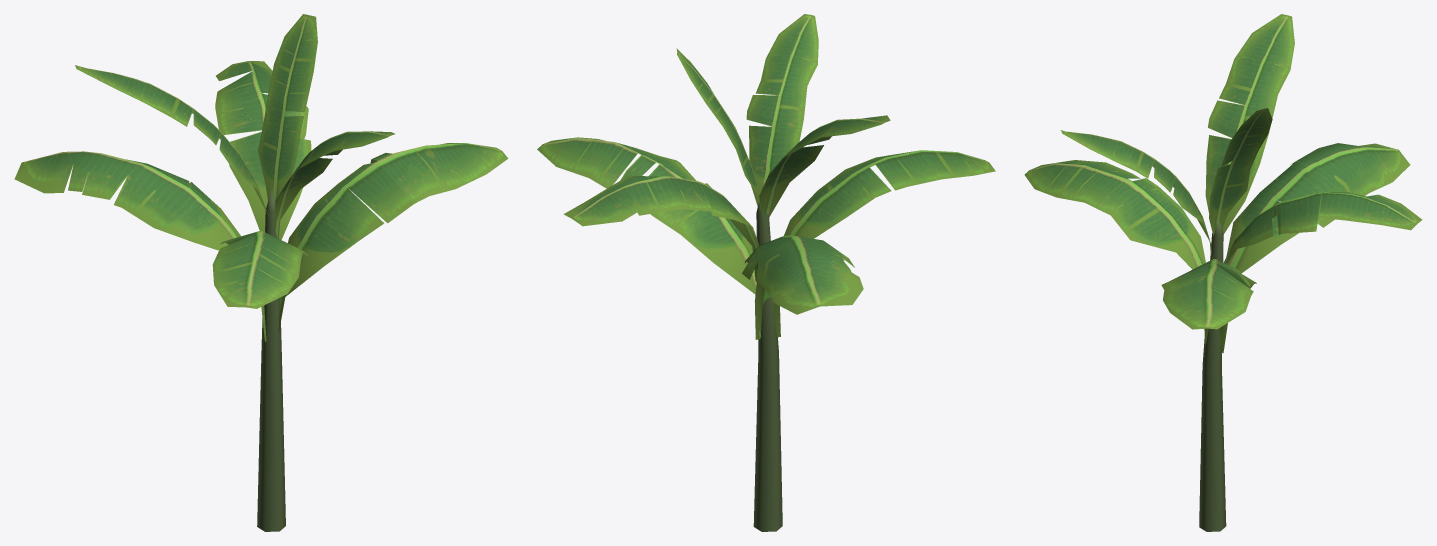
File: P_BananaTree02.obj
3 views of the same model, side by side, from view 1: azimuth 30°, elevation 25°; view 2: azimuth 150°, elevation 25°; view 3: azimuth 270°, elevation 25° (orthographic). The views are drawn at different scales.
Size of the model in its own units: 3.48 by 3.98 by 3.22.
